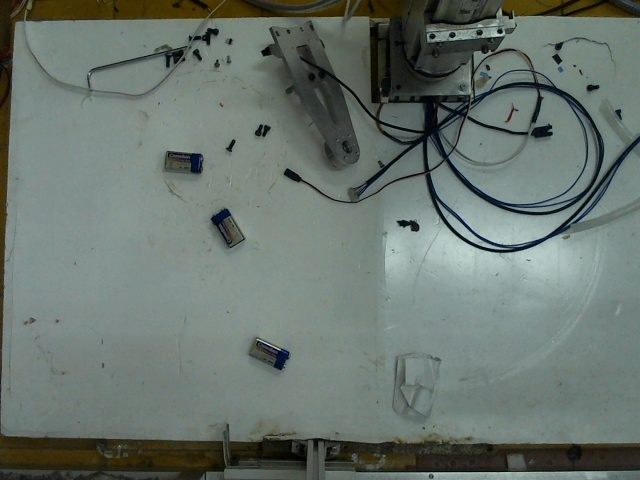battery: (207, 205, 246, 251), (159, 142, 206, 180), (244, 335, 288, 370)
